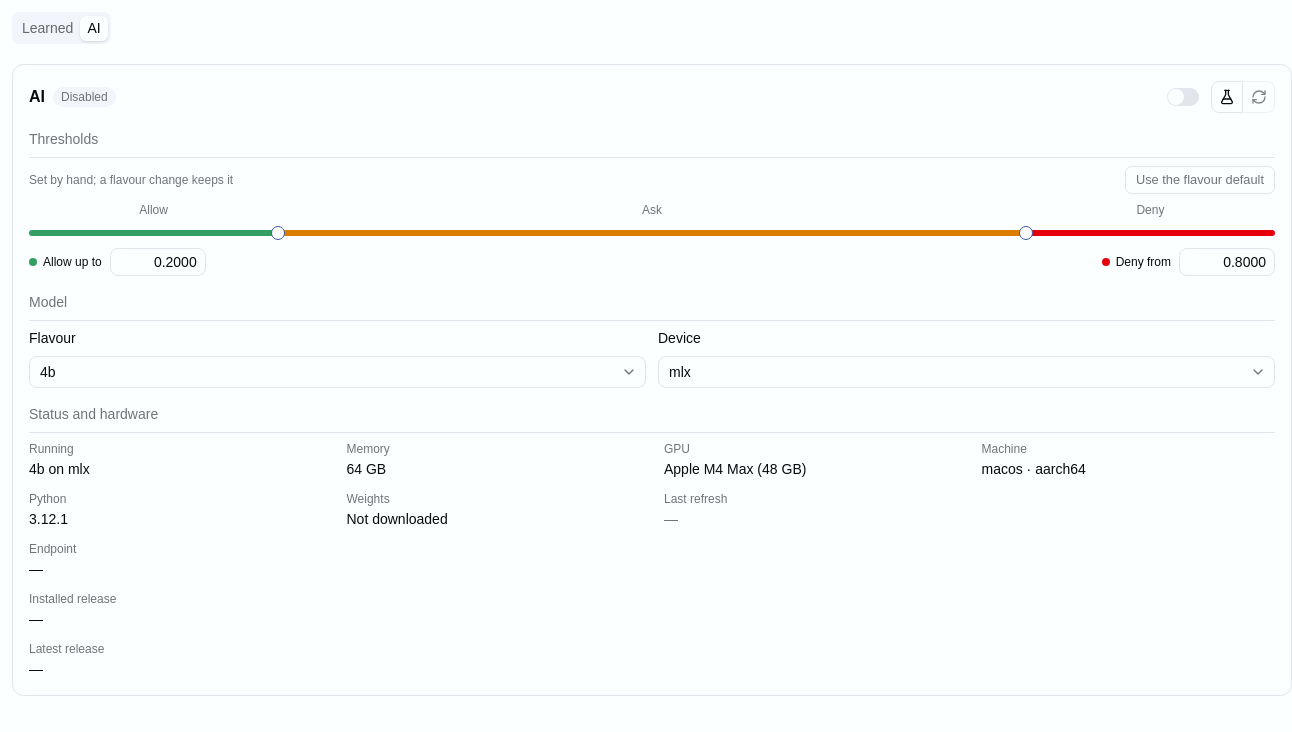
Scenario: toasts the daemon's own message on a refused threshold, and puts the value back
Replace the text in the number field named "Allow threshold" with "0.95". click: (158, 262)
box: [110,248,206,276]
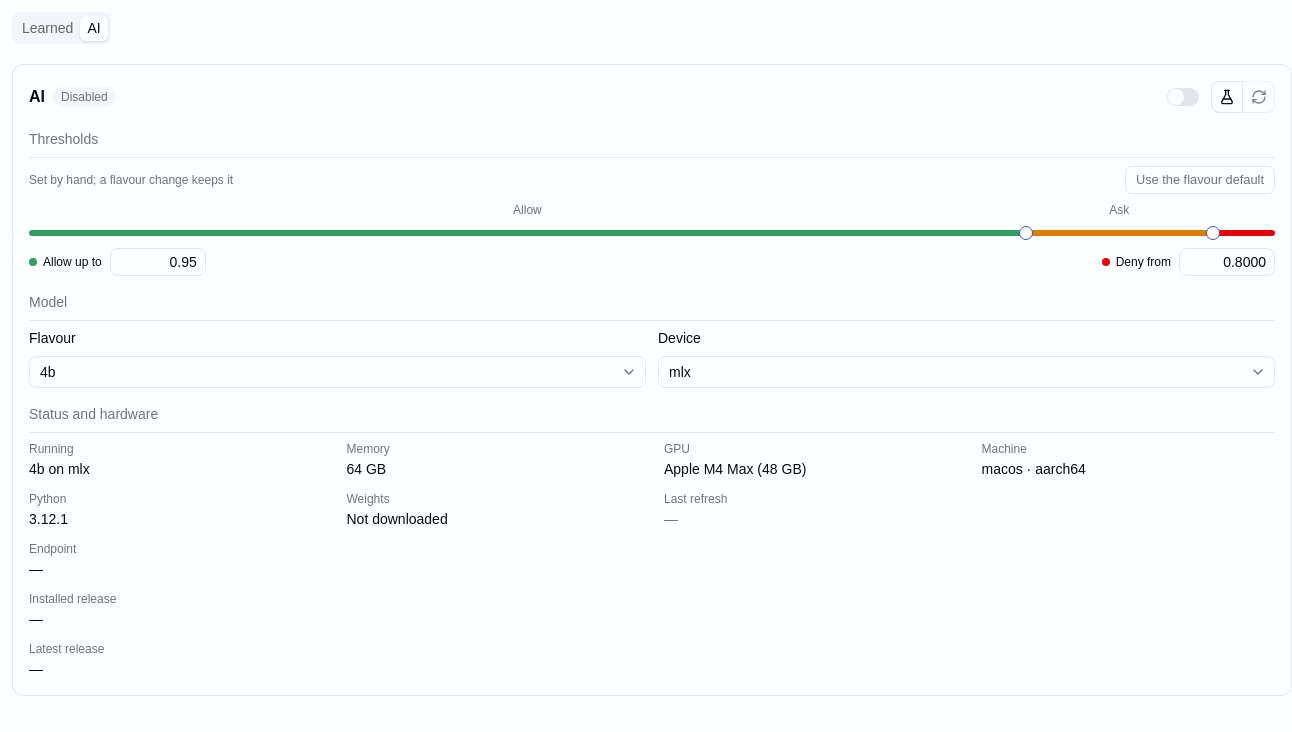
Leave the number field named "Allow threshold", box [110,248,206,276]
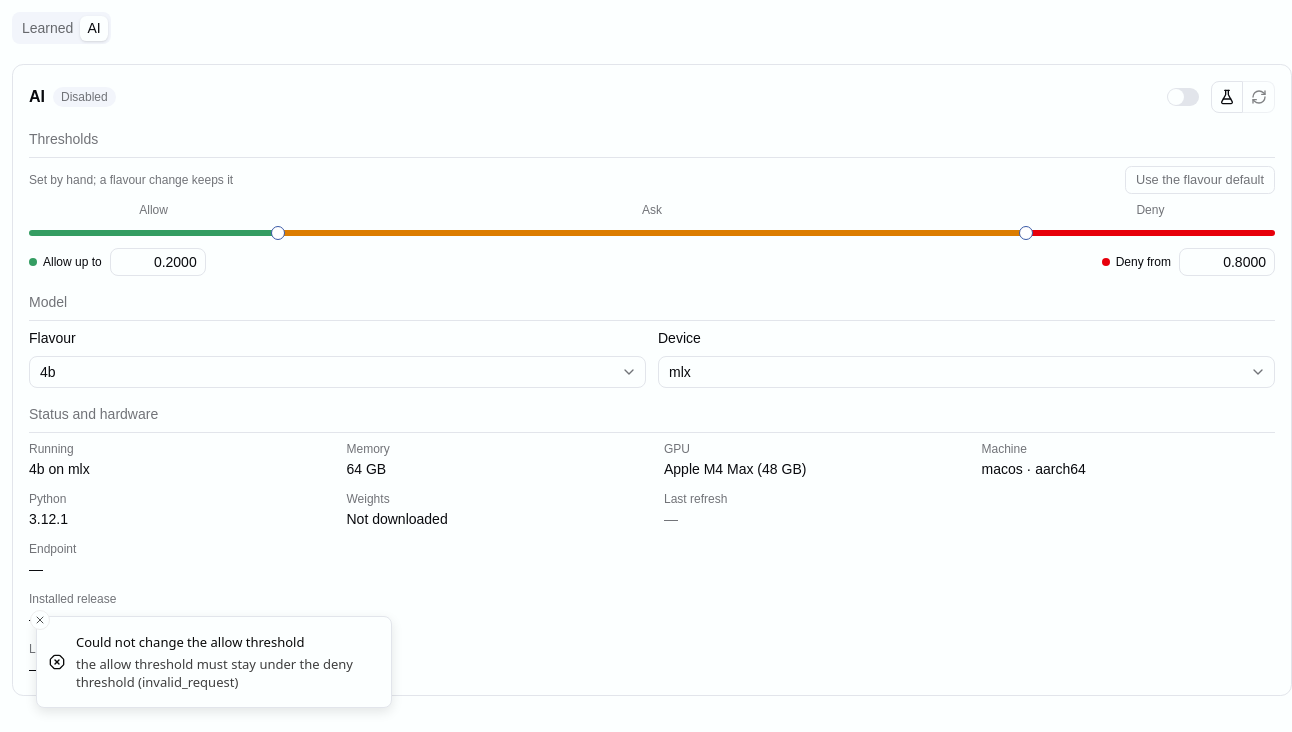
Expected: the text "the allow threshold must stay under the deny threshold" is shown, [76,655,353,691]
Expected: the number field named "Allow threshold" holds "0.2000", [110,248,206,276]
